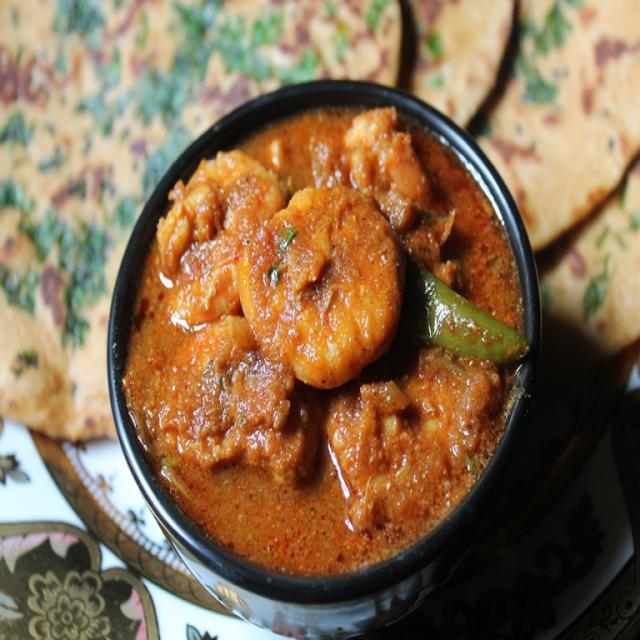prawn thokku: (134, 103, 490, 552)
